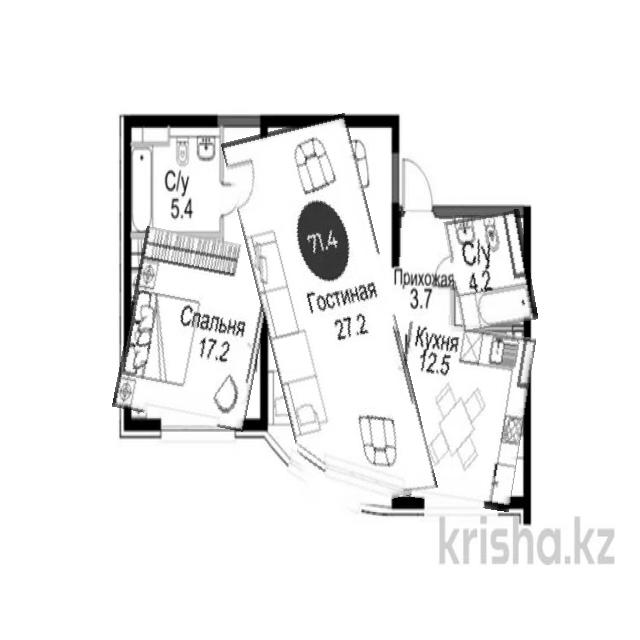bathroom: (130, 121, 222, 238), (448, 212, 534, 329)
hallway: (393, 212, 453, 331)
kitchen: (390, 324, 530, 508)
living_room: (244, 118, 416, 514), (120, 231, 270, 427)
